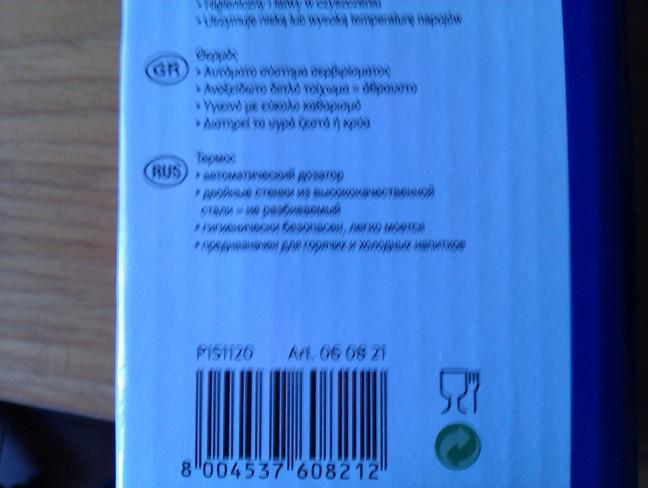Barkod: (147, 359, 414, 480)
